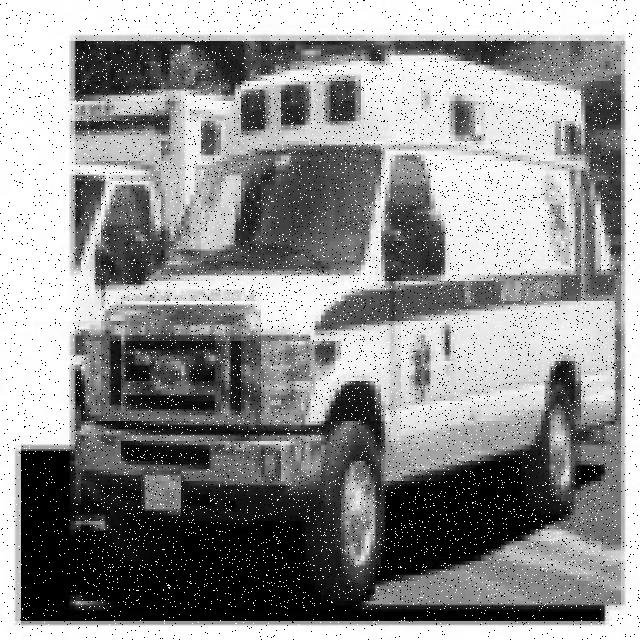Ambulance: (73, 49, 617, 609)
